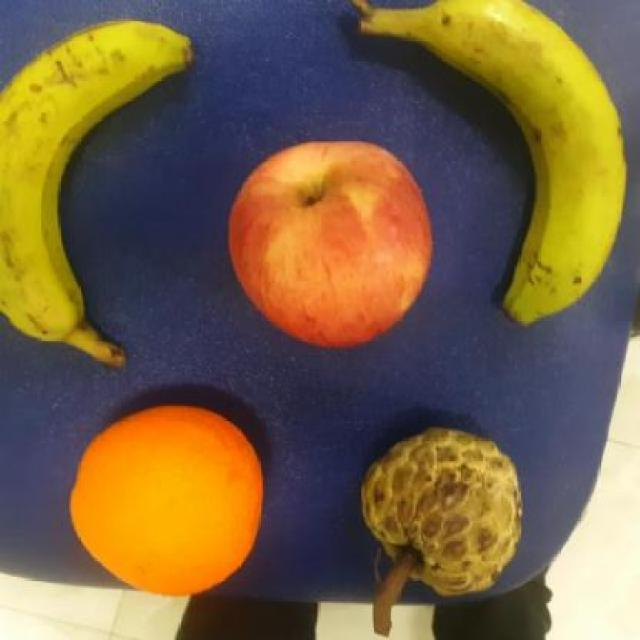apple: (219, 134, 439, 354)
banana: (0, 20, 202, 355), (429, 1, 634, 327)
oren: (62, 390, 266, 592)
sugar apple: (362, 418, 541, 600)
